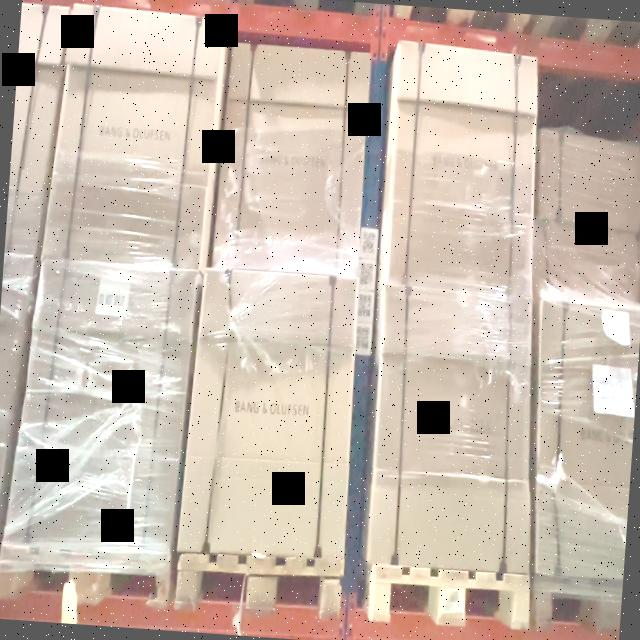box: (3, 258, 196, 553), (182, 267, 360, 556), (368, 282, 533, 572), (42, 7, 223, 269), (386, 41, 536, 299), (212, 42, 371, 268)
